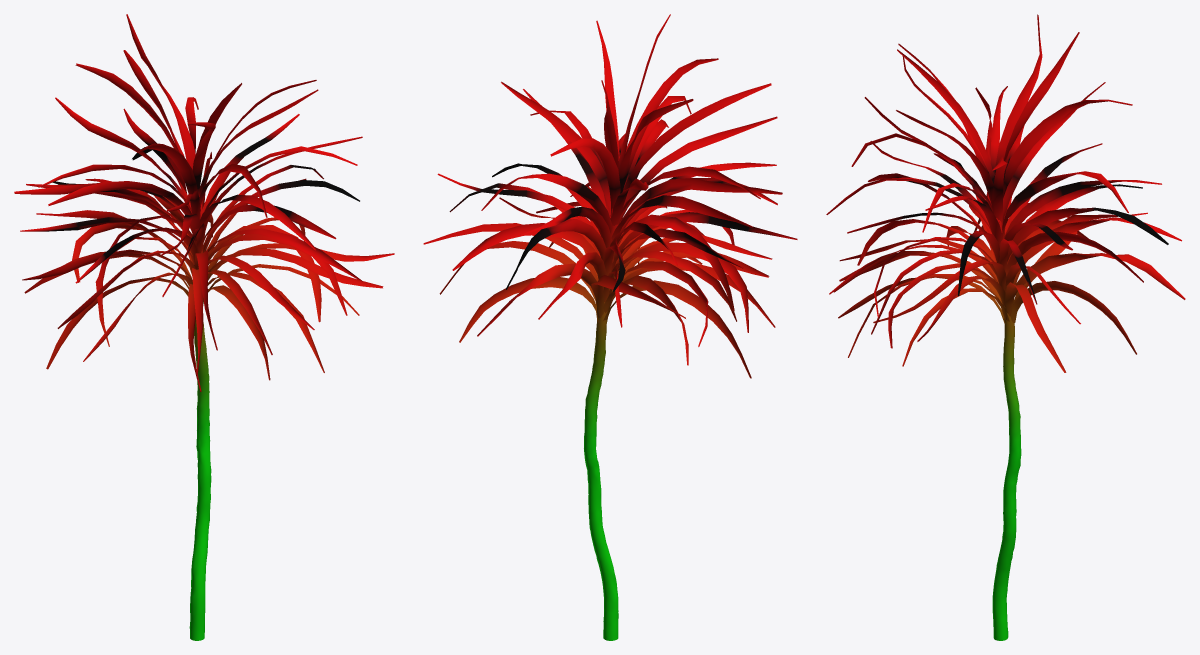
File: Dragon Tree_LOD1_Var1_wfypejzha.fbx
The picture shows the model from 3 angles, left to right: view 1: azimuth 30°, elevation 25°; view 2: azimuth 150°, elevation 25°; view 3: azimuth 270°, elevation 25°; orthographic projection.
Parts seen in each view (by area): view 1: _h4pc_Var1_LOD1; view 2: _h4pc_Var1_LOD1; view 3: _h4pc_Var1_LOD1.
Part boxes in pixels (<box>): _h4pc_Var1_LOD1: <box>14,14,394,640</box>; _h4pc_Var1_LOD1: <box>423,14,797,640</box>; _h4pc_Var1_LOD1: <box>826,14,1185,640</box>.
Size of the model in its own units: 53.64 by 96.78 by 53.34.
